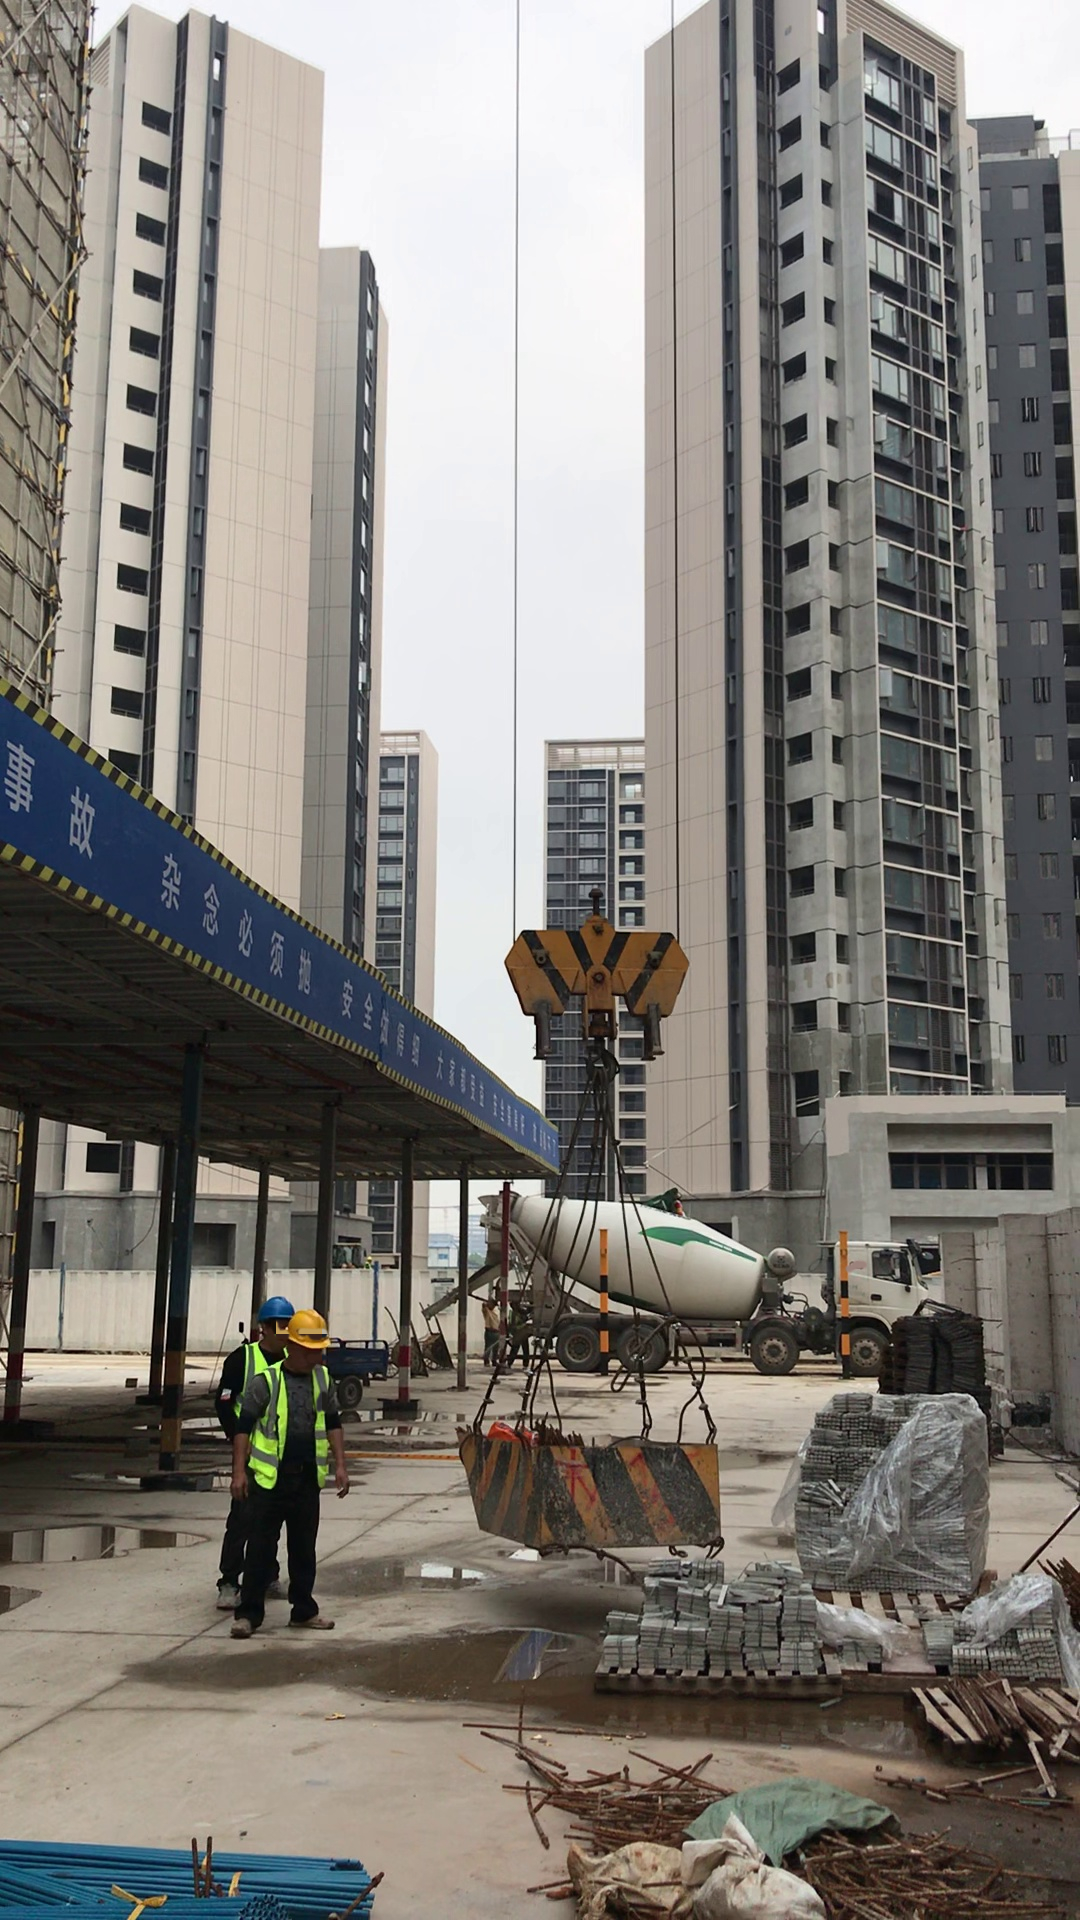handcart: (385, 1301, 452, 1369)
helmet: (288, 1293, 332, 1350), (242, 1284, 292, 1329)
hook: (501, 883, 693, 1038)
person: (238, 1302, 343, 1637), (210, 1290, 295, 1611)
slogan: (4, 728, 553, 1166)
vest: (242, 1366, 331, 1469)
